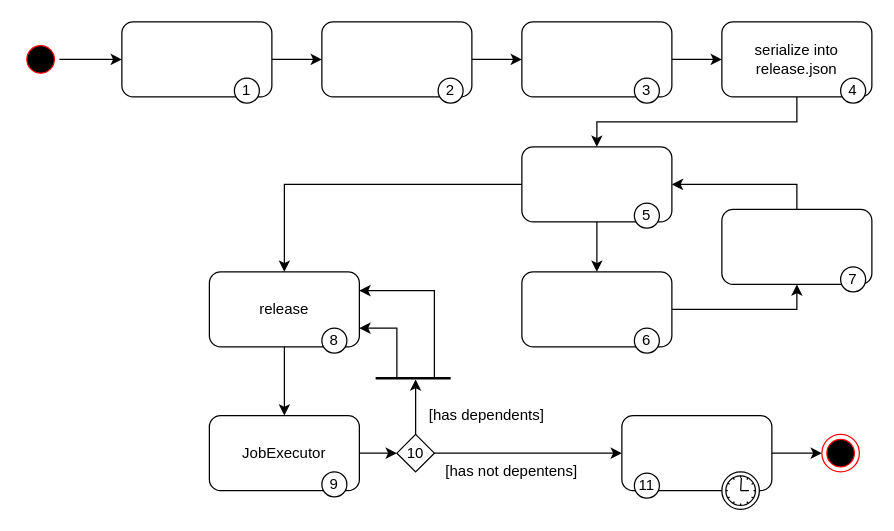
This 894x531 diagram has some shape labels left out. Here are the shapes that lost their labels. From the top down, the box of each, then its label:
(121, 21, 272, 97): Main json ...
(321, 21, 472, 97): pom analysis
(521, 21, 672, 97): create release plan
(521, 146, 672, 222): display in browser
(721, 208, 872, 284): save
(521, 271, 672, 347): manipulate
(621, 414, 772, 491): wait for all jobs to compete
